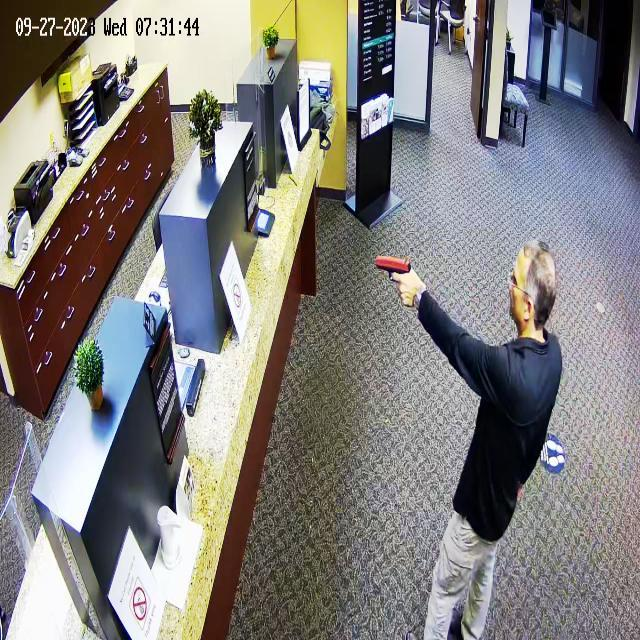Gun: (368, 242, 428, 313)
